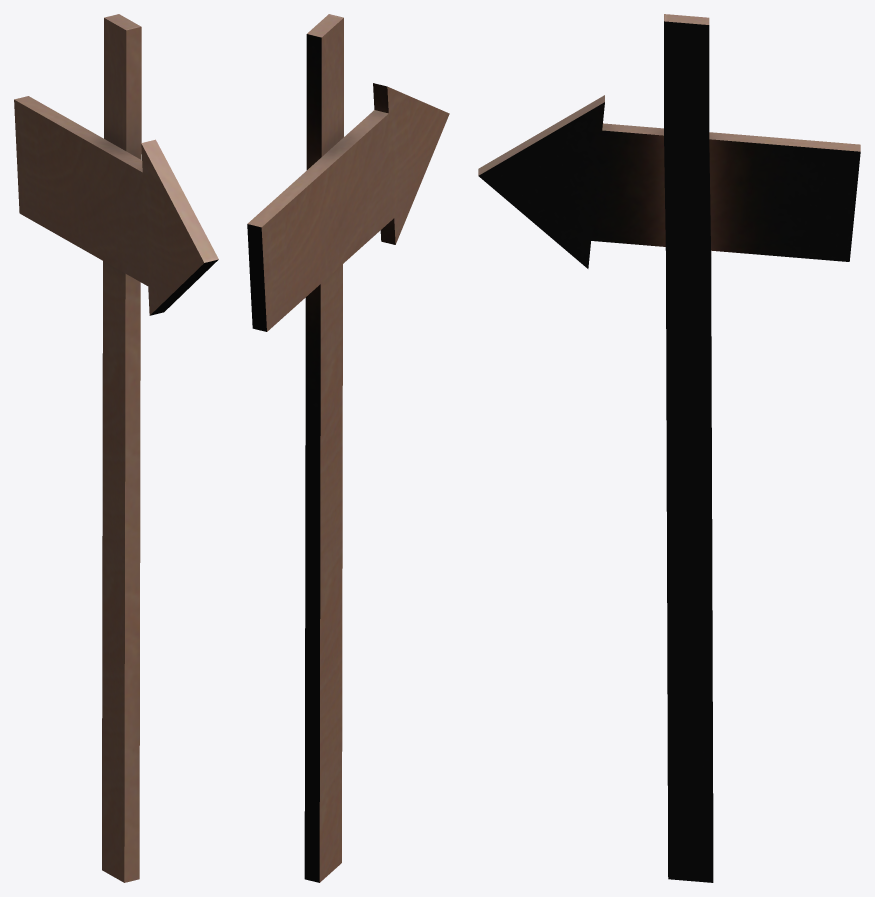
The model's file is jiantou.DAE.
The picture shows the model from 3 angles, left to right: view 1: azimuth 30°, elevation 25°; view 2: azimuth 150°, elevation 25°; view 3: azimuth 270°, elevation 25°; orthographic projection.
Visible parts, largest first — view 1: Box01; view 2: Box01; view 3: Box01.
Boxes of the visible parts, x1=… form: Box01: x1=14, y1=14, x2=218, y2=882; Box01: x1=247, y1=14, x2=449, y2=882; Box01: x1=478, y1=14, x2=860, y2=882.
Size of the model in its own units: 9.4 by 104 by 259.
Materials: 1 (1 with a texture image).
